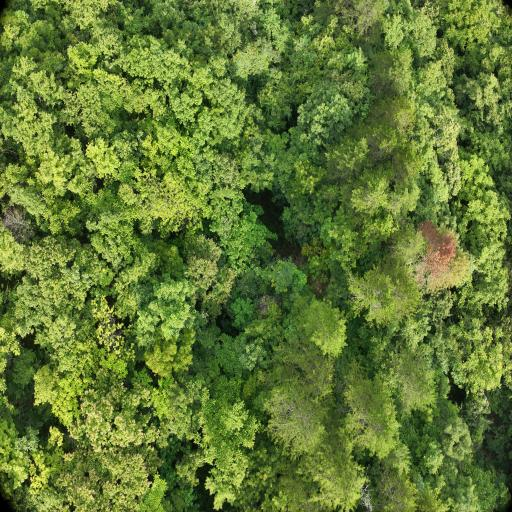sick-tree: (422, 224, 447, 268)
